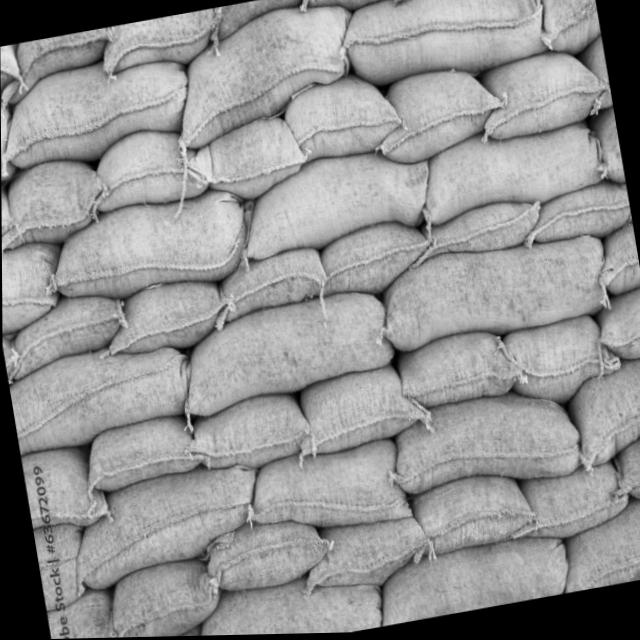sack: (160, 0, 367, 152), (370, 228, 613, 356), (172, 289, 397, 422), (61, 461, 269, 593), (36, 187, 257, 311), (379, 382, 584, 509), (228, 142, 439, 262), (0, 48, 197, 173), (6, 335, 199, 455), (410, 114, 608, 226), (331, 0, 550, 92), (370, 530, 572, 629), (240, 438, 408, 546), (369, 62, 508, 170), (187, 565, 385, 637), (289, 362, 433, 460), (474, 44, 612, 142), (181, 113, 312, 210), (196, 510, 334, 600), (181, 390, 315, 480), (295, 511, 432, 599), (280, 68, 404, 165), (79, 122, 205, 217), (408, 468, 538, 560), (98, 273, 232, 362), (502, 314, 624, 411), (2, 289, 132, 380), (91, 553, 227, 638), (393, 326, 523, 414), (1, 152, 112, 249), (206, 247, 331, 333), (77, 412, 201, 495), (511, 462, 632, 547), (315, 218, 435, 302), (411, 198, 548, 267), (563, 358, 640, 474), (552, 499, 640, 596), (516, 182, 632, 252), (21, 441, 108, 534), (1, 240, 71, 334), (530, 0, 603, 61), (43, 585, 119, 639), (590, 225, 640, 300), (592, 291, 640, 367), (608, 429, 640, 507)
